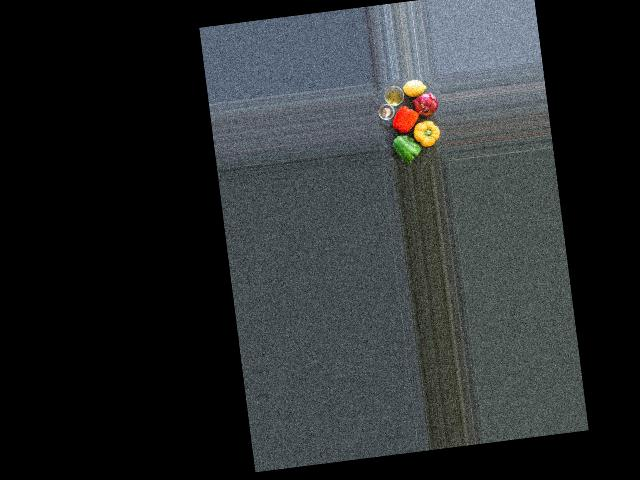bell_pepper: (389, 104, 421, 134)
